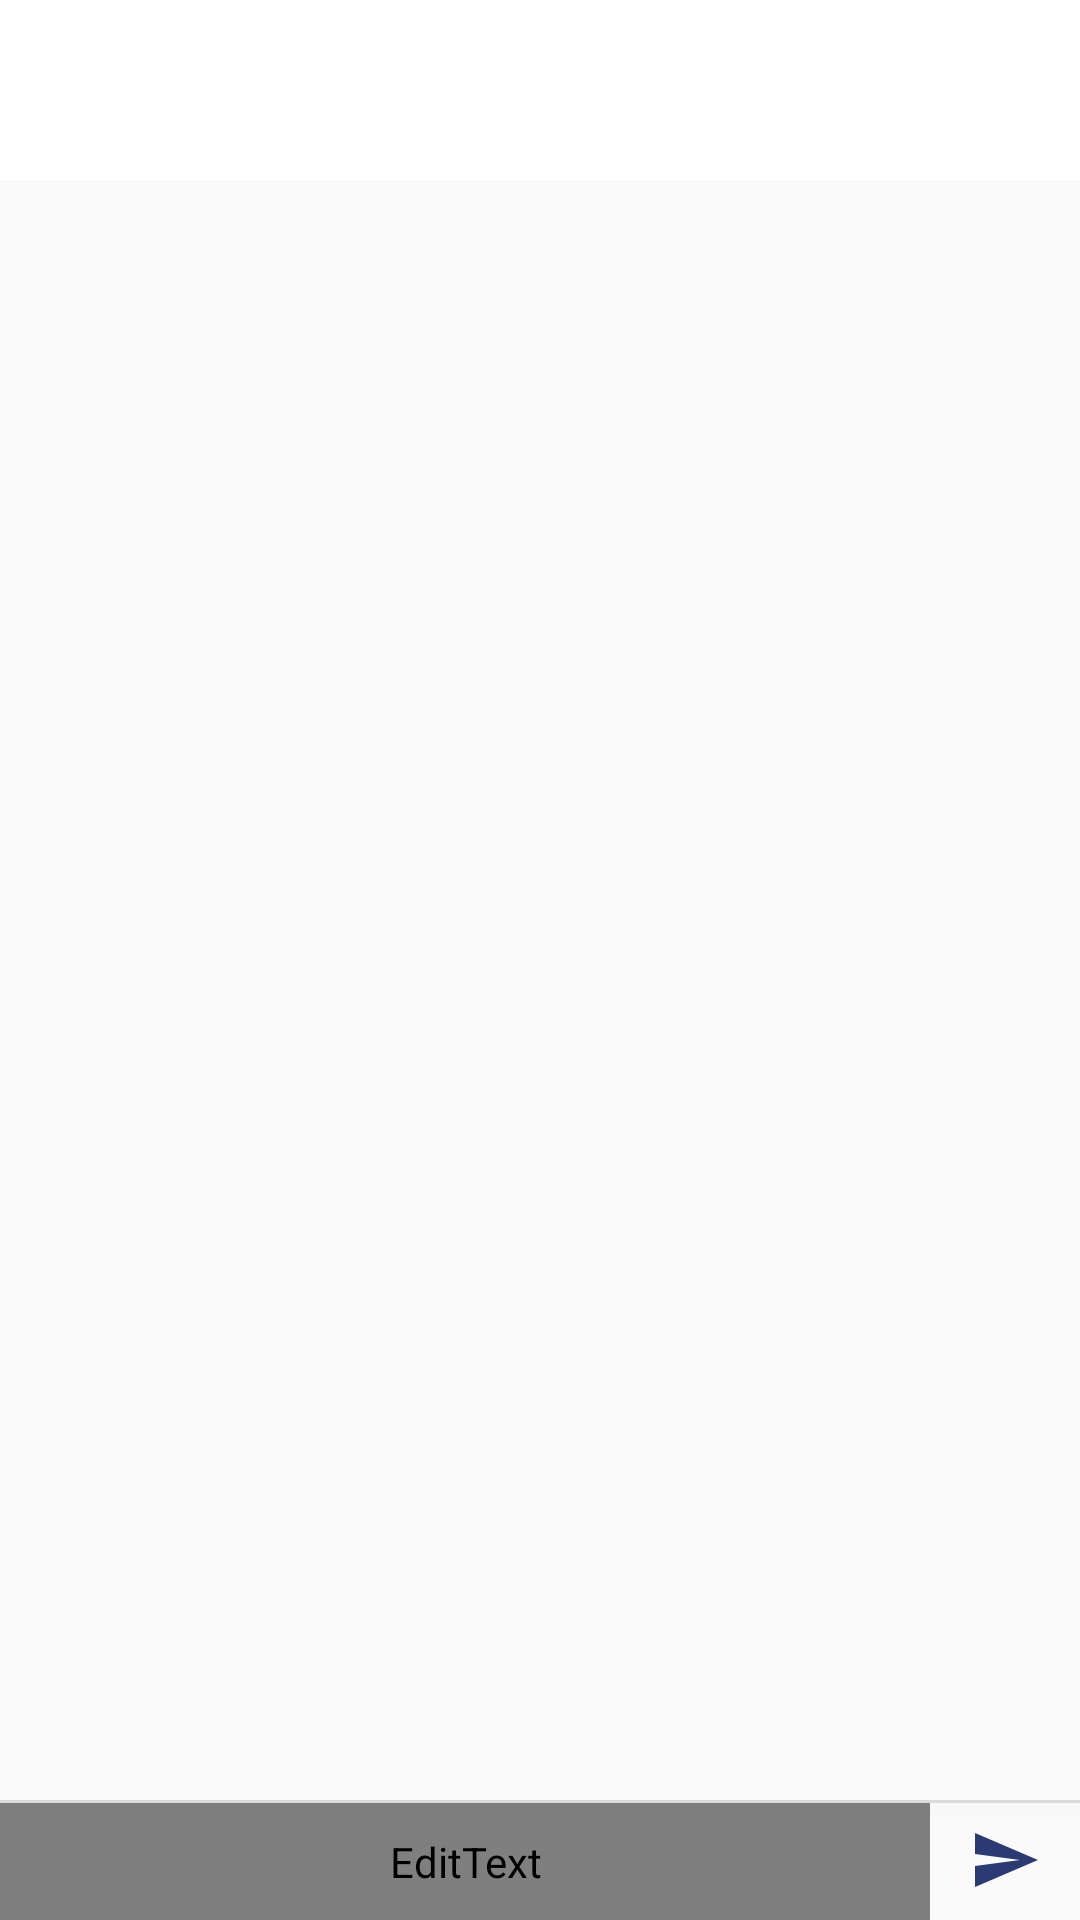

Icons on this 1080×1920 Android screen, each with the point to tap as [x,y]:
send: [1005,1860]
